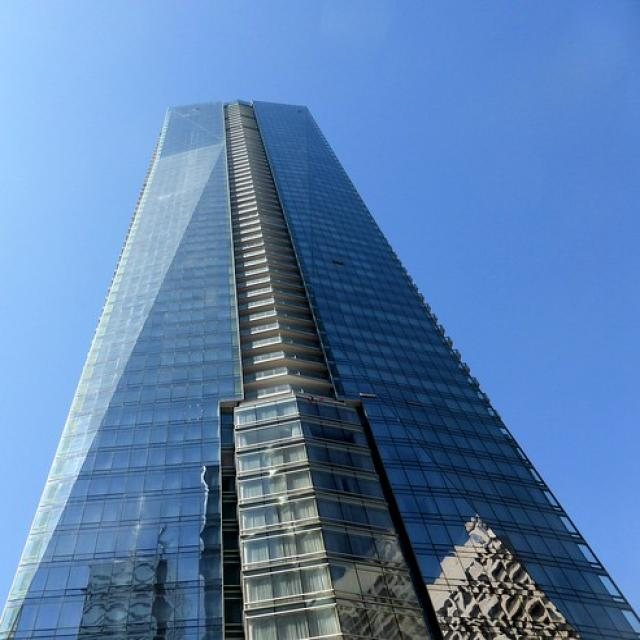Normal_building: (4, 96, 633, 640)
